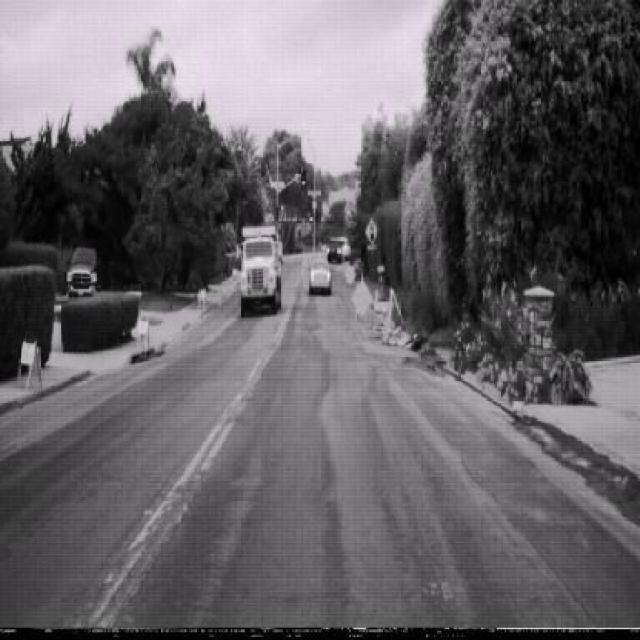signalAhead: (364, 217, 378, 244)
